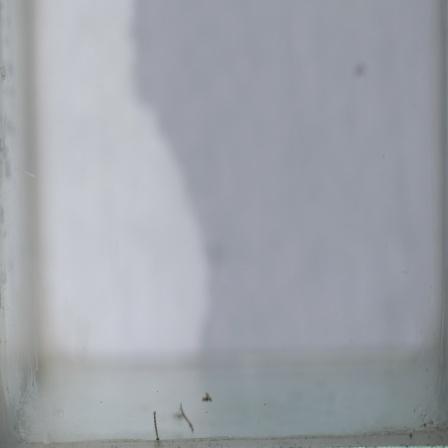Jentik-Nyamuk: (177, 399, 199, 435), (148, 406, 168, 443)
